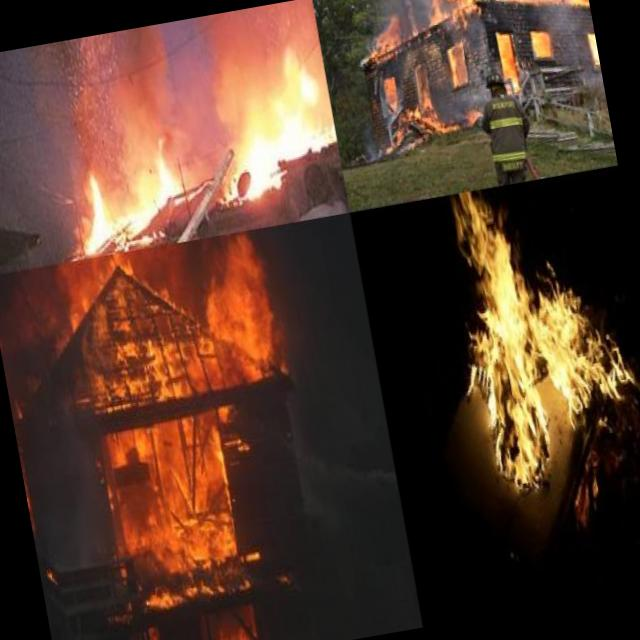fire: (433, 169, 640, 490), (102, 397, 240, 582), (72, 272, 218, 424), (193, 242, 290, 399), (420, 0, 590, 35), (262, 82, 338, 159), (59, 160, 119, 252), (230, 119, 288, 196), (387, 88, 452, 144), (142, 137, 182, 207), (116, 190, 156, 240), (358, 18, 402, 61), (203, 613, 261, 640), (496, 31, 521, 92), (41, 560, 62, 592), (584, 30, 600, 70), (137, 624, 170, 640)
smoke: (32, 22, 188, 182), (190, 0, 330, 127), (545, 4, 591, 76), (366, 0, 426, 25), (357, 116, 382, 164), (579, 68, 606, 101)
